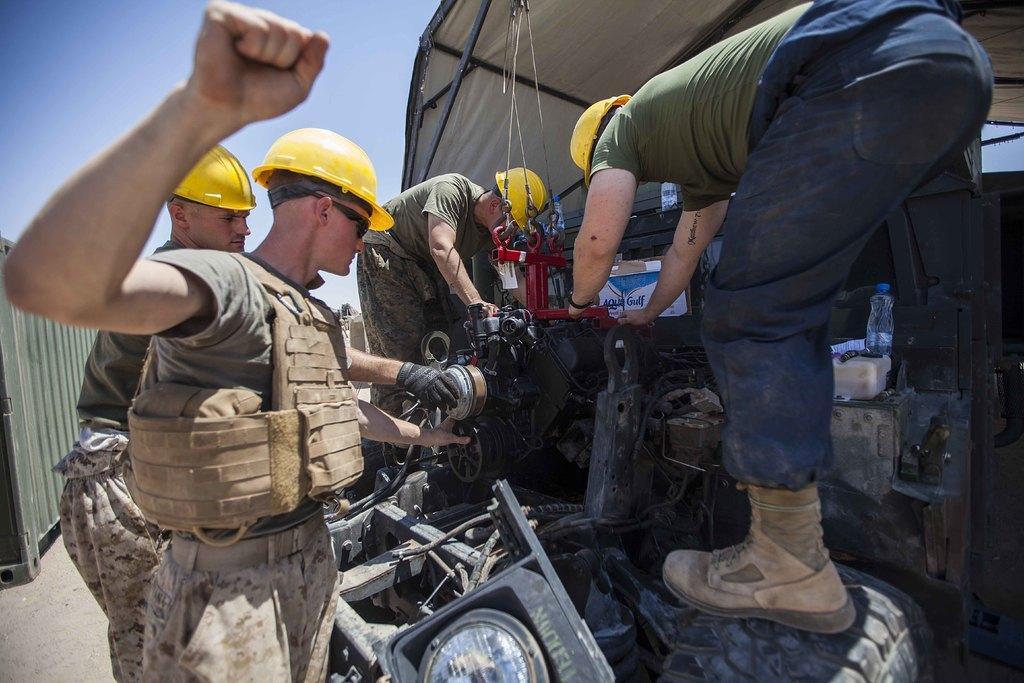helmet: (252, 127, 395, 276), (154, 139, 257, 262), (568, 94, 655, 190), (484, 167, 548, 241)
